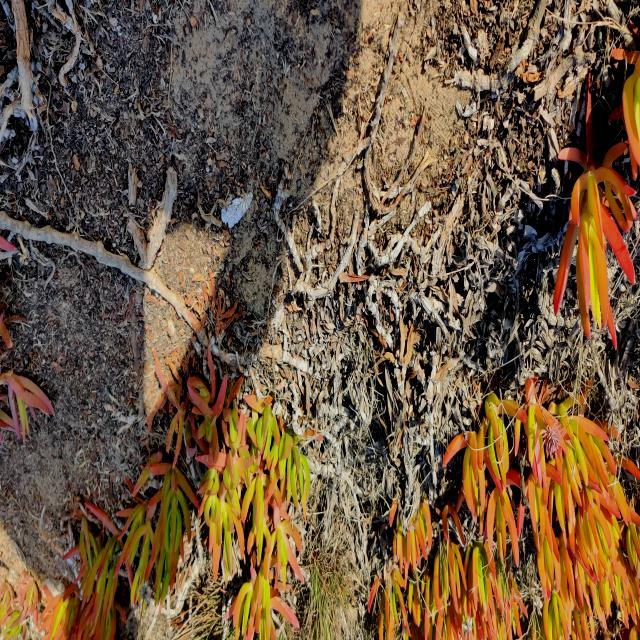Aluminium foil: (221, 193, 252, 227)
